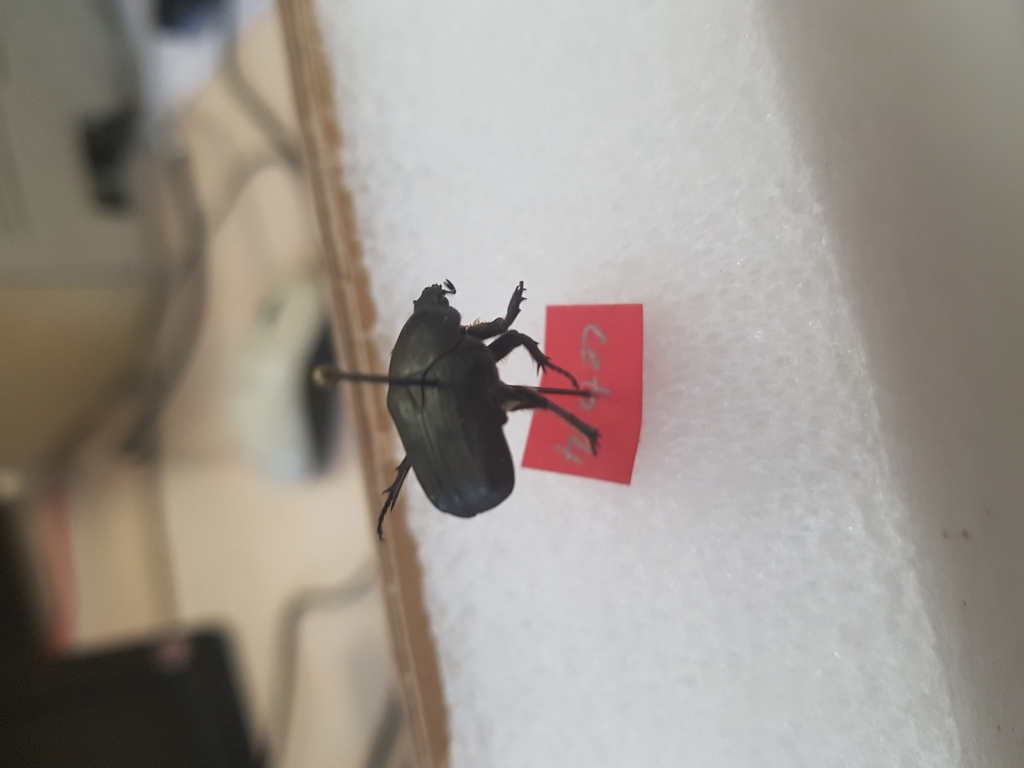Protaetia_vidua: (332, 245, 615, 556)
